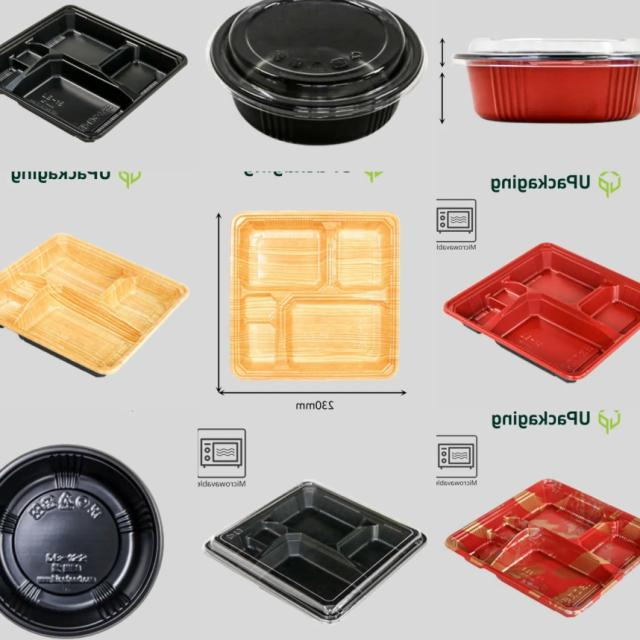plastik: (0, 445, 163, 638), (211, 0, 423, 144), (205, 483, 426, 620), (230, 211, 400, 380), (444, 243, 640, 380), (0, 234, 188, 376), (446, 480, 640, 616), (0, 6, 187, 141), (453, 38, 640, 122)
